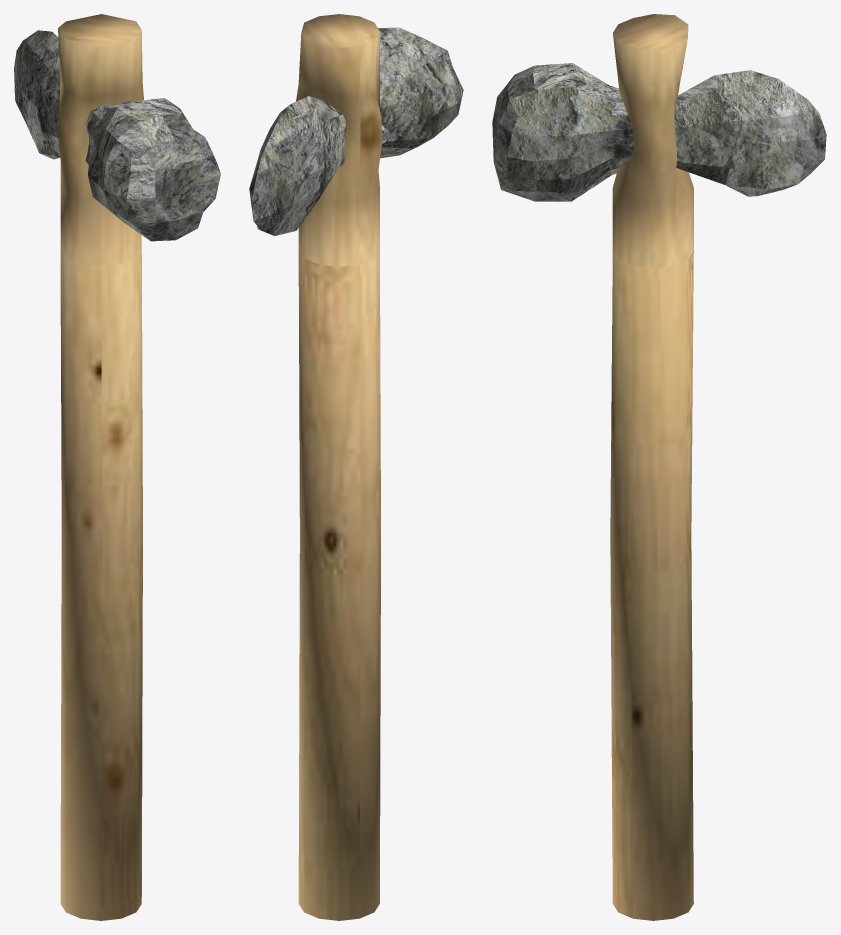
File: hamaxe_1.fbx
3 renders of one model, left to right at view 1: azimuth 30°, elevation 25°; view 2: azimuth 150°, elevation 25°; view 3: azimuth 270°, elevation 25°, orthographic.
Visible parts, largest first — view 1: hamaxe_handle, hamaxe_head; view 2: hamaxe_handle, hamaxe_head; view 3: hamaxe_handle, hamaxe_head.
Boxes of the visible parts, x1,y1,x2,y2 form: hamaxe_handle: (58, 14, 143, 920); hamaxe_head: (14, 30, 220, 241); hamaxe_handle: (296, 14, 381, 920); hamaxe_head: (249, 27, 463, 235); hamaxe_handle: (610, 14, 693, 920); hamaxe_head: (492, 63, 826, 201).
Bounding box in the file's own units: 19.44 × 143 × 49.5.
